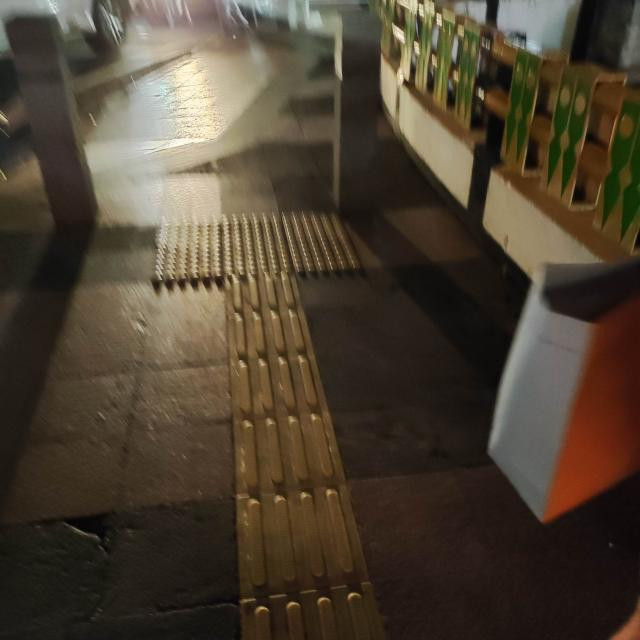lurus: (205, 266, 376, 632)
